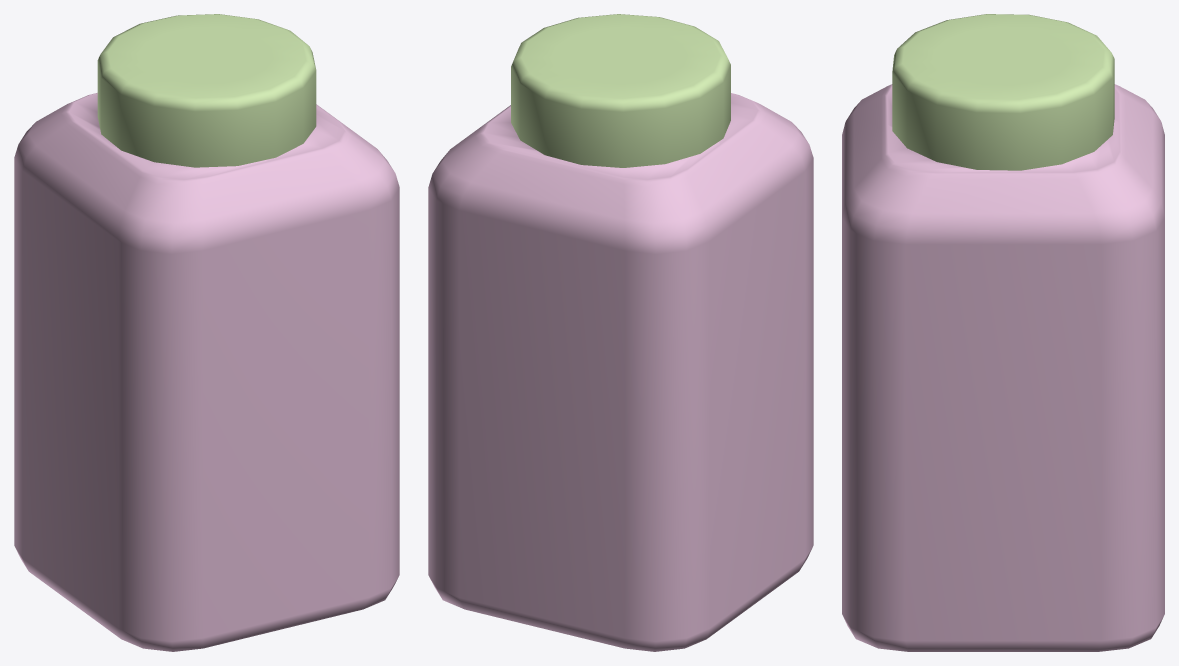
The model's file is PickleJar.fbx.
3 views of the same model, side by side, from view 1: azimuth 30°, elevation 25°; view 2: azimuth 150°, elevation 25°; view 3: azimuth 270°, elevation 25° (orthographic). The views are drawn at different scales.
Visible parts, largest first — view 1: jarpickle, coverpickle; view 2: jarpickle, coverpickle; view 3: jarpickle, coverpickle.
Part boxes in pixels (x1,y1,x2,y2): jarpickle: (14,93,399,651); coverpickle: (97,14,316,167); jarpickle: (428,93,813,651); coverpickle: (511,14,730,167); jarpickle: (842,84,1164,651); coverpickle: (892,14,1114,170).
Size of the model in its own units: 17.97 by 32.84 by 17.97.
